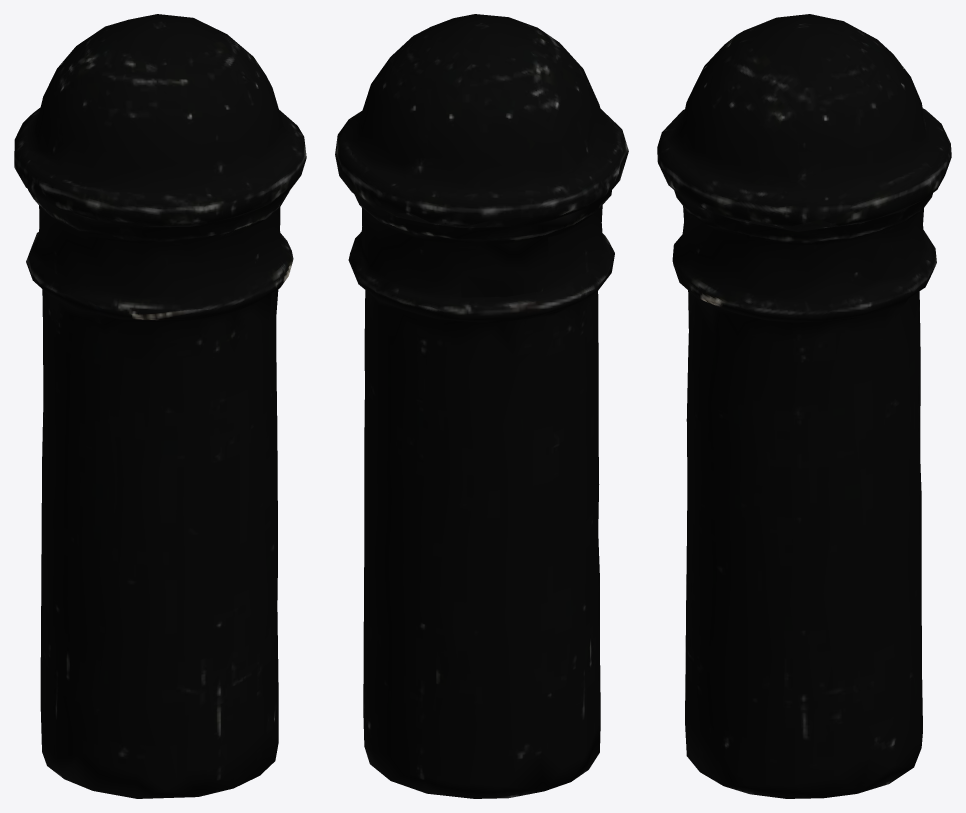
Rendered from street-bollard.glb.
3 views of the same model, side by side, from view 1: azimuth 30°, elevation 25°; view 2: azimuth 150°, elevation 25°; view 3: azimuth 270°, elevation 25° (orthographic).
Visible parts, largest first — view 1: Mesh_0.008; view 2: Mesh_0.008; view 3: Mesh_0.008.
Boxes of the visible parts, <box> form: Mesh_0.008: <box>14,14,306,798</box>; Mesh_0.008: <box>335,14,628,798</box>; Mesh_0.008: <box>657,14,951,798</box>.
Bounding box in the file's own units: 0.3288 × 0.9 × 0.331.
Materials: 1 (1 with a texture image).
